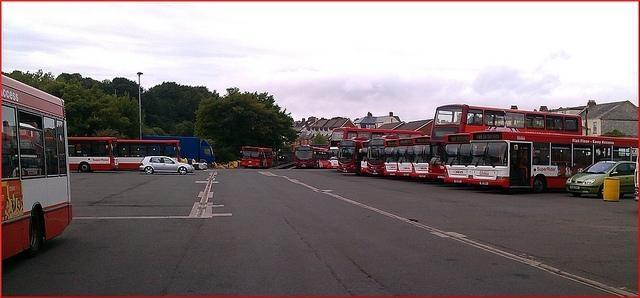bus: (2, 74, 72, 264), (428, 105, 582, 180), (468, 131, 638, 193), (116, 138, 181, 169), (67, 136, 119, 172), (442, 133, 471, 183), (337, 137, 369, 176), (363, 138, 386, 176), (412, 136, 432, 179), (294, 146, 328, 168), (240, 146, 272, 168), (397, 138, 413, 178), (383, 139, 398, 178)
car: (565, 161, 637, 198), (138, 156, 195, 175)
truck: (143, 136, 216, 164), (634, 146, 640, 204)
